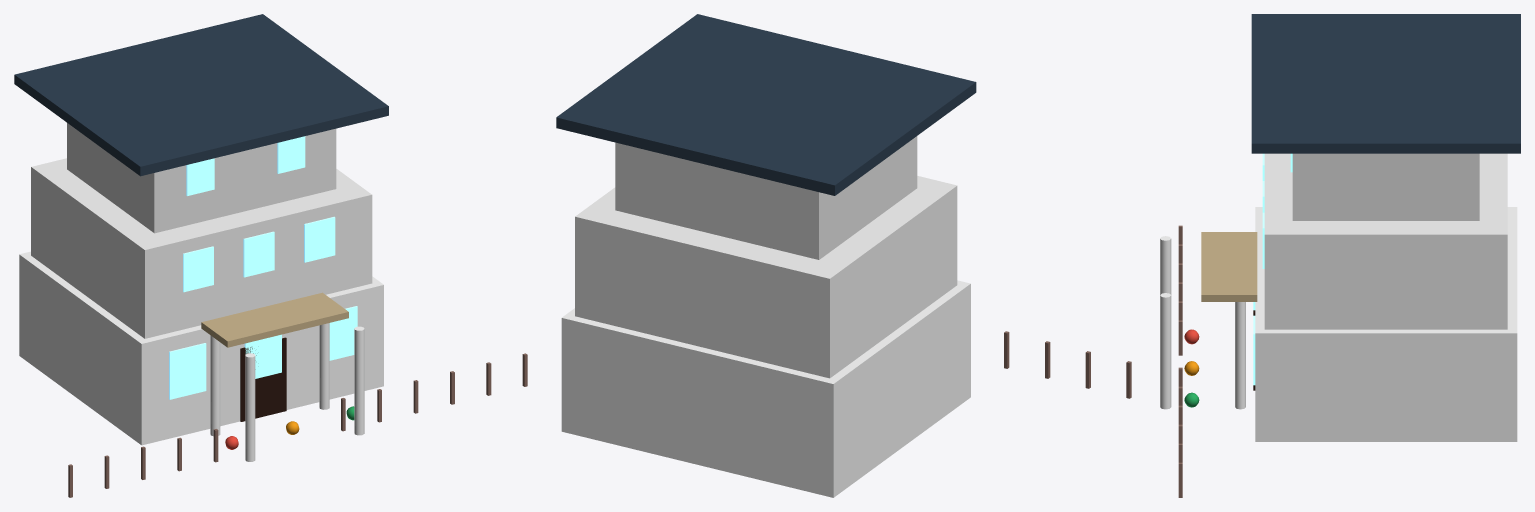
File: villa.glb
3 renders of one model, left to right at view 1: azimuth 30°, elevation 25°; view 2: azimuth 150°, elevation 25°; view 3: azimuth 270°, elevation 25°, orthographic. The views are drawn at different scales.
Visible parts, largest first — view 1: rich-house; view 2: rich-house; view 3: rich-house.
Part boxes in pixels (x1,y1,x2,y2): rich-house: (14, 14, 527, 497); rich-house: (556, 14, 1131, 497); rich-house: (1160, 14, 1520, 497).
Size of the model in its own units: 15.1 by 8.85 by 9.65.
